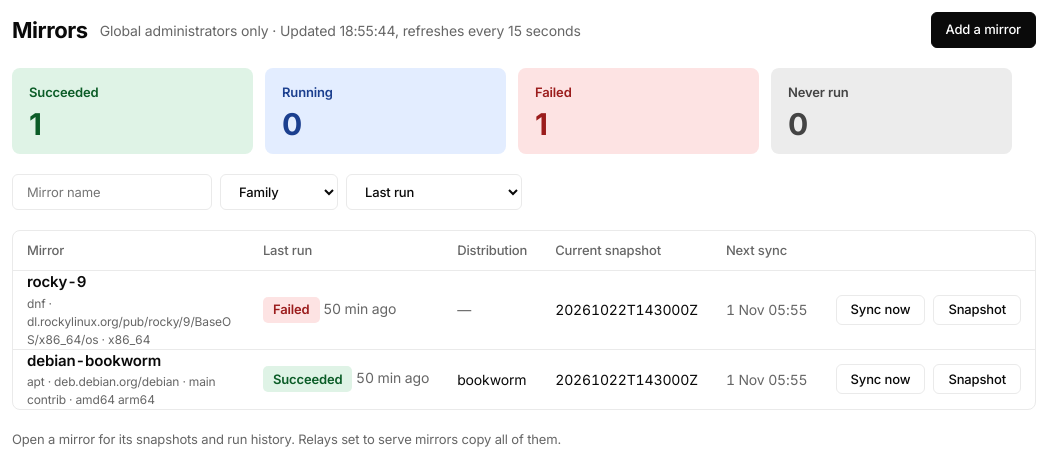
Test case: MirrorListPage › filters by family in the URL
Select "Family: dnf" in the dropdown named "Family" at (279, 192), box [220,174,338,210]
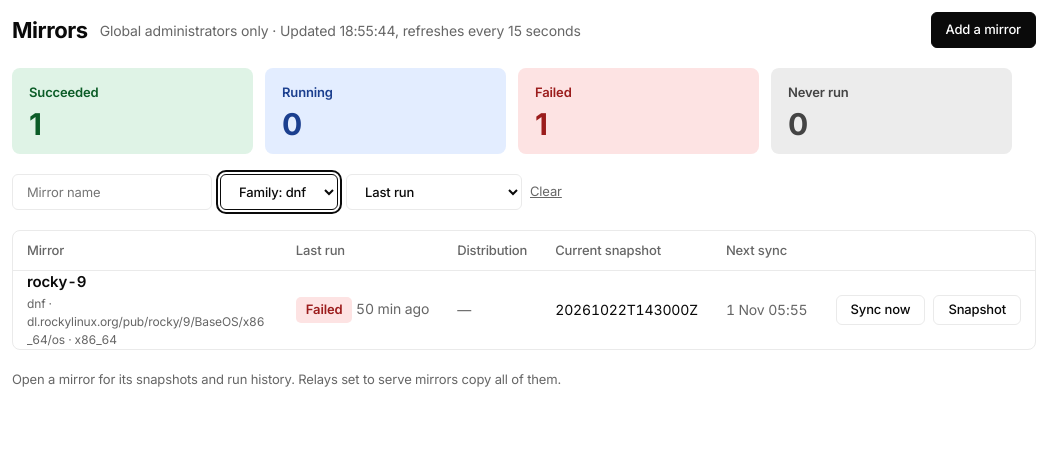
Expected: the link "rocky-9" is shown, [27,273,86,290]
Result: the link "debian-bookworm" is gone
